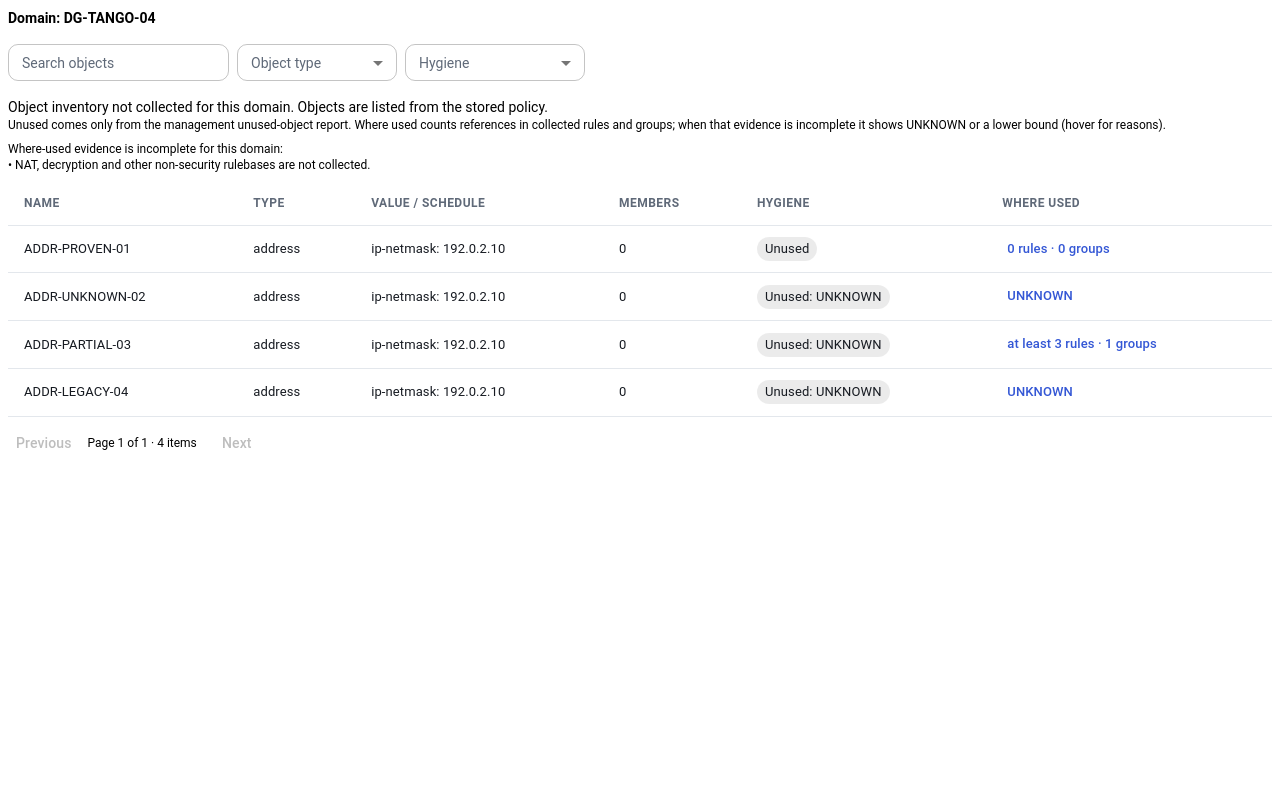
Test case: explains an unknown zero in the usage drawer instead of claiming no references
Click the button with aria-label "Where used: ADDR-UNKNOWN-02" at (1040, 297), box [1002,281,1078,312]
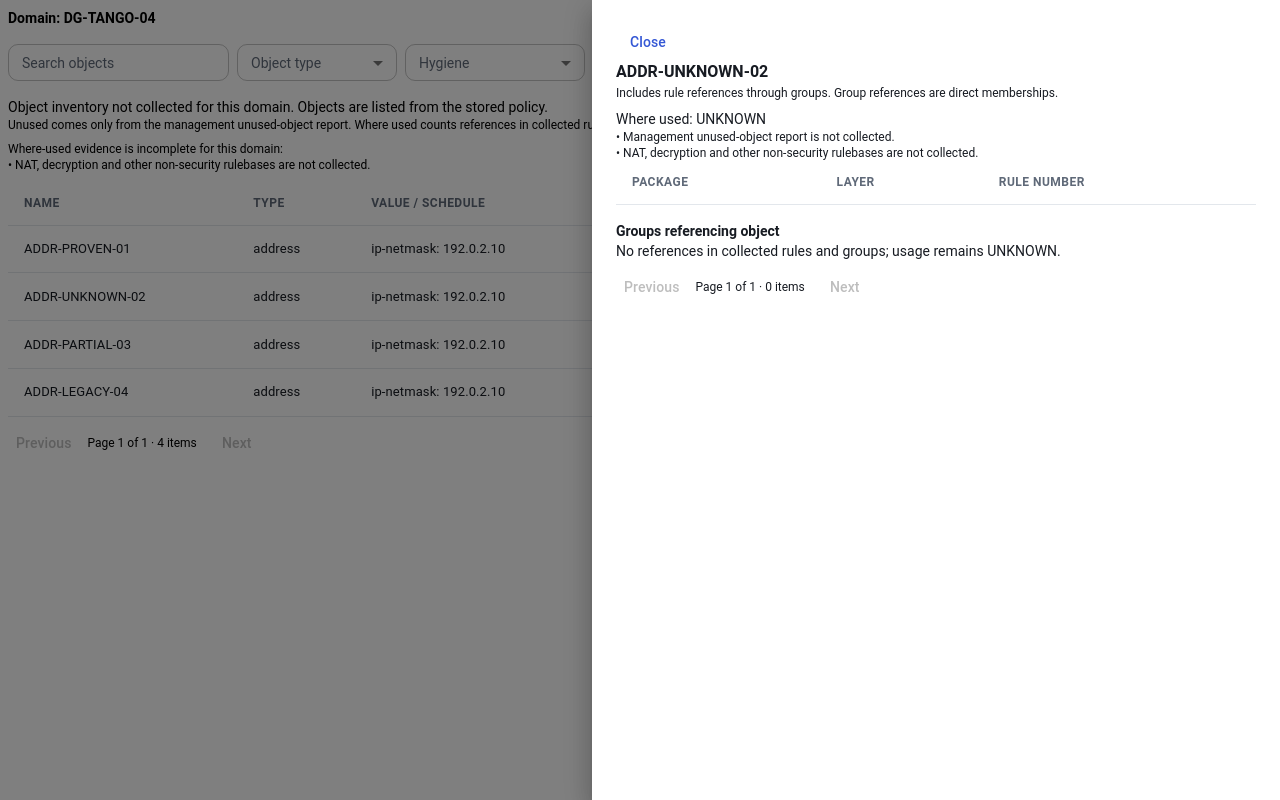
Expected: the text "No references in collected rules and groups; usage remains UNKNOWN." is shown, [616,243,1061,259]
Expected: the text "Where used: UNKNOWN" is shown, [616,110,766,126]
